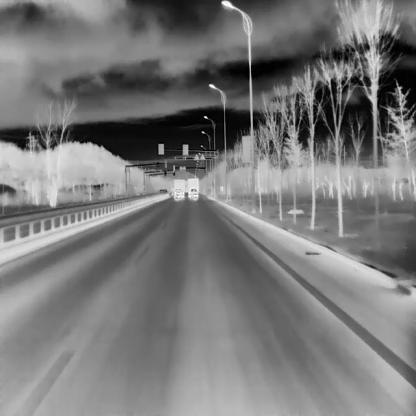car: (174, 179, 184, 197), (188, 179, 198, 197), (174, 188, 183, 199), (188, 188, 197, 198)
